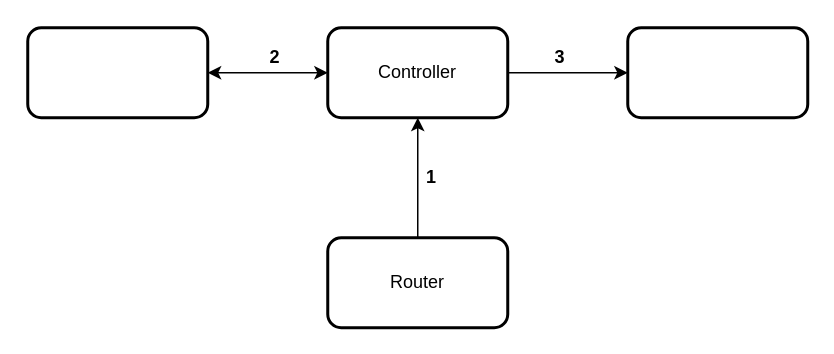
This 834x354 diagram has some shape labels left out. Here are the shapes that lost their labels. From the top down, the centre of each, then its label:
pixel 117 72: Model
pixel 717 72: View
